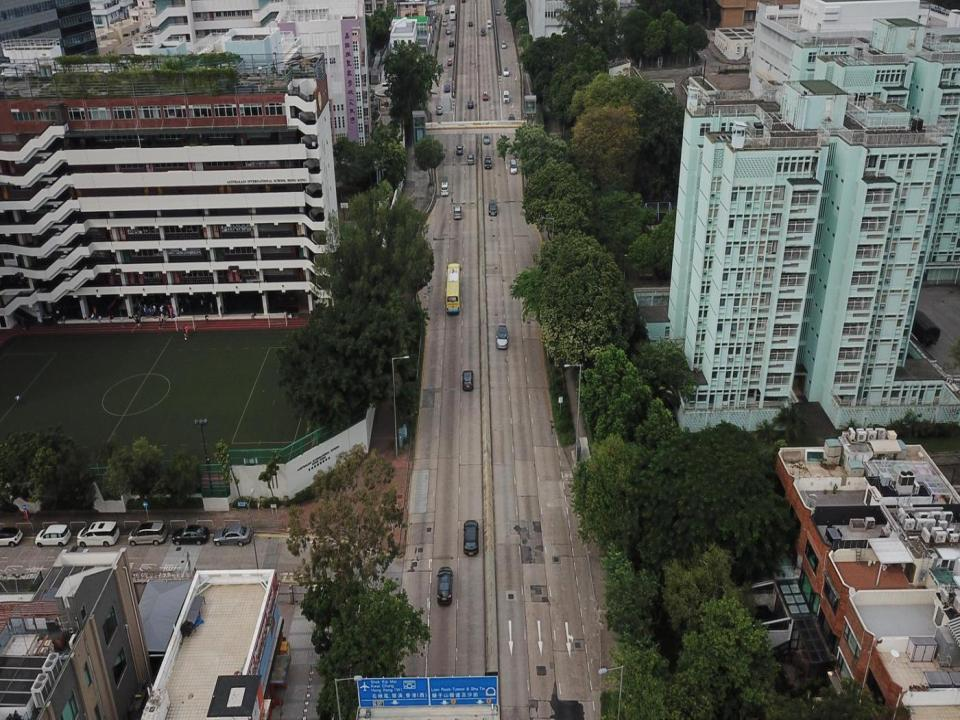bus: (446, 263, 463, 314), (450, 5, 455, 19)
car: (128, 519, 169, 545), (34, 524, 70, 548), (213, 528, 251, 547), (171, 526, 208, 544), (437, 566, 454, 605), (464, 520, 478, 555), (496, 323, 508, 347), (462, 368, 474, 391), (488, 199, 497, 216), (484, 132, 491, 146), (456, 144, 464, 154), (502, 67, 510, 76), (443, 83, 450, 92), (468, 154, 474, 164), (509, 114, 515, 124), (437, 105, 443, 114), (468, 98, 473, 108), (483, 92, 488, 102), (446, 28, 452, 35), (447, 57, 452, 65), (502, 40, 506, 48), (496, 8, 500, 15), (469, 21, 473, 27), (443, 19, 446, 26), (446, 6, 449, 13)
van: (75, 520, 119, 547), (0, 526, 23, 545), (453, 204, 462, 218), (484, 155, 492, 169), (510, 158, 517, 174), (502, 90, 509, 104), (441, 182, 448, 196), (481, 26, 486, 38), (449, 40, 454, 48), (487, 19, 491, 29)
